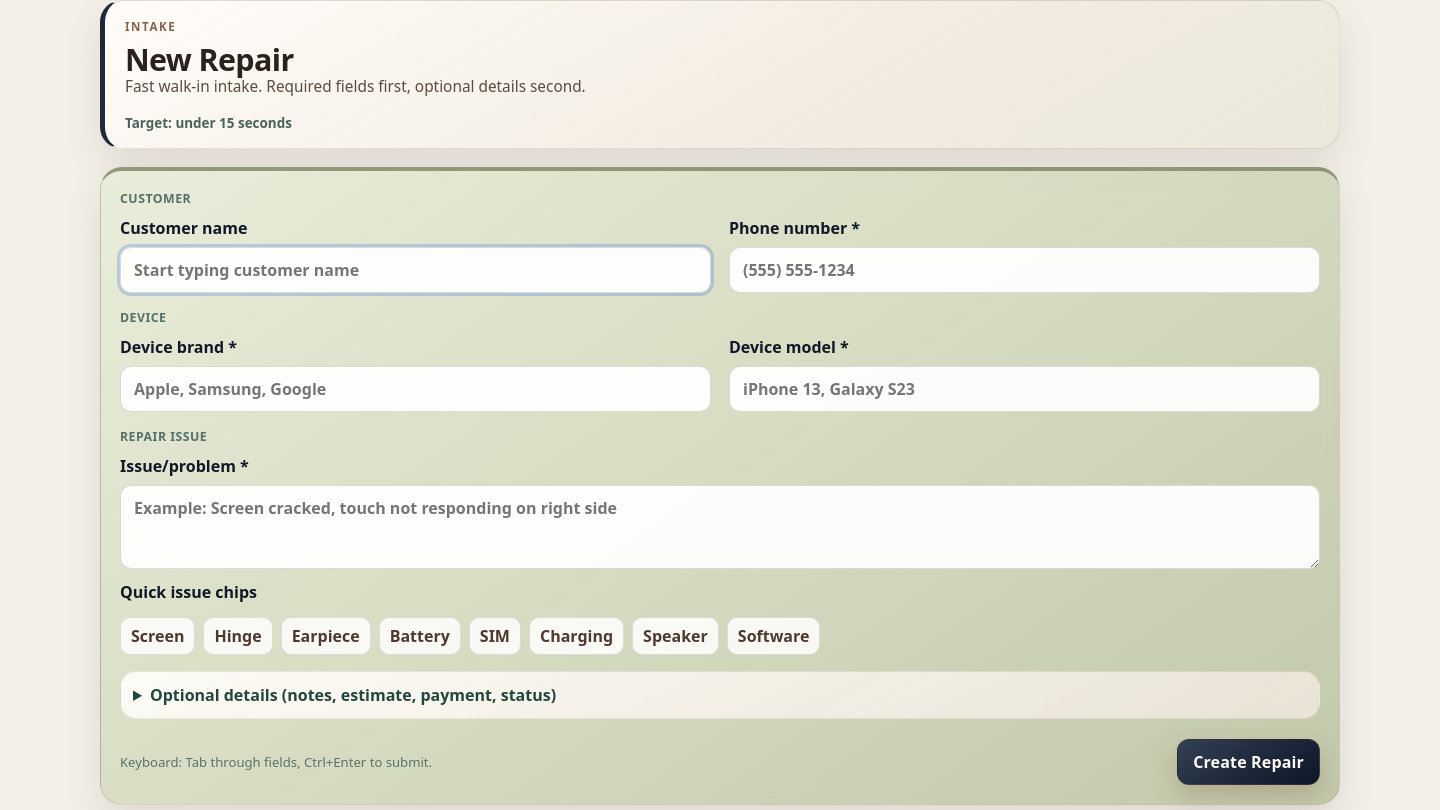
Scenario: IntakePage › renders quick intake fields and customer suggestions
Check: the heading "New Repair" is shown, box [125,39,294,80]
Check: the text box labelled "Issue/problem *" is shown, box [120,485,1320,569]
Type "Al" into the field labelled "Customer name". click: x=416, y=270
box: [120,247,711,293]
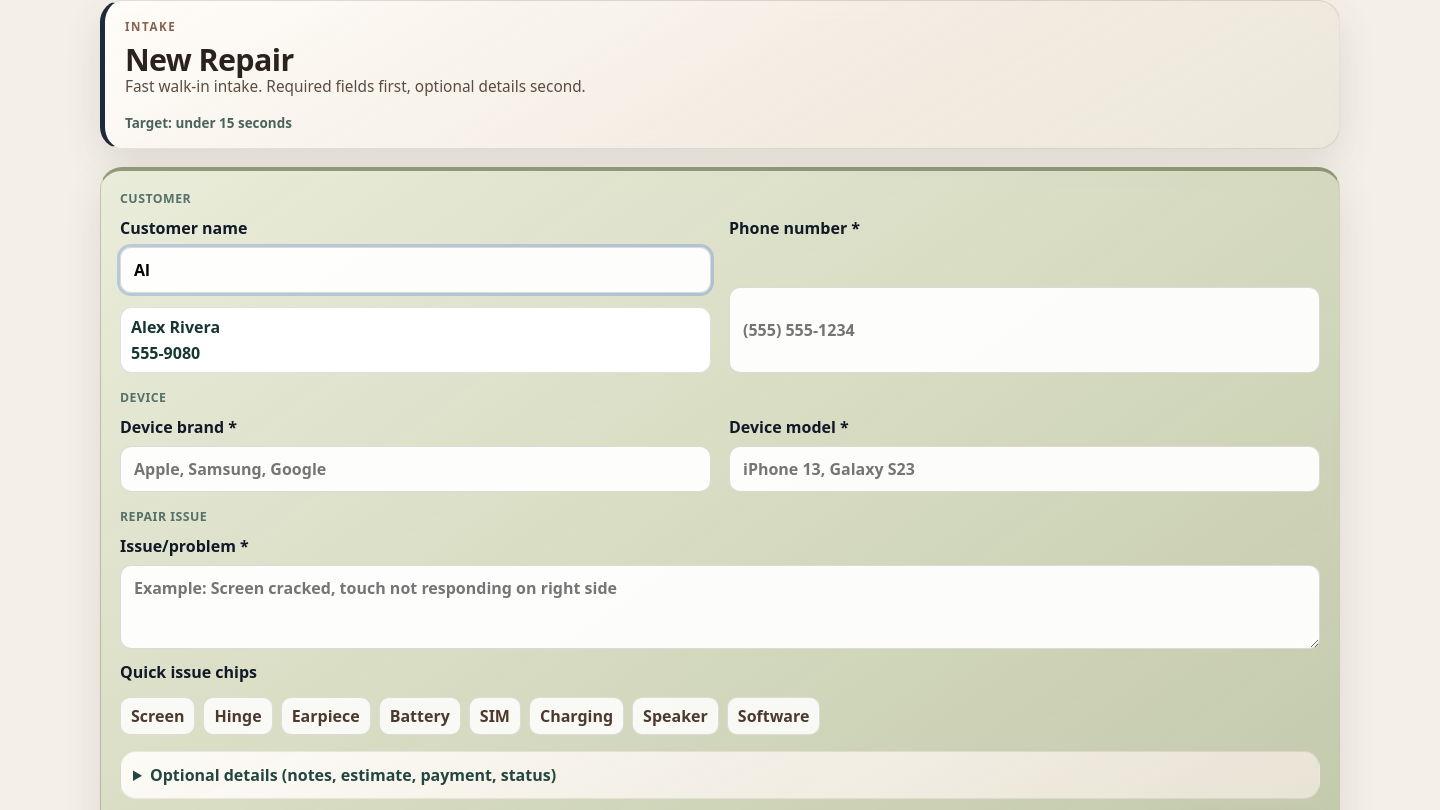
Check: the text "Alex Rivera" is shown, box [131,316,220,338]
